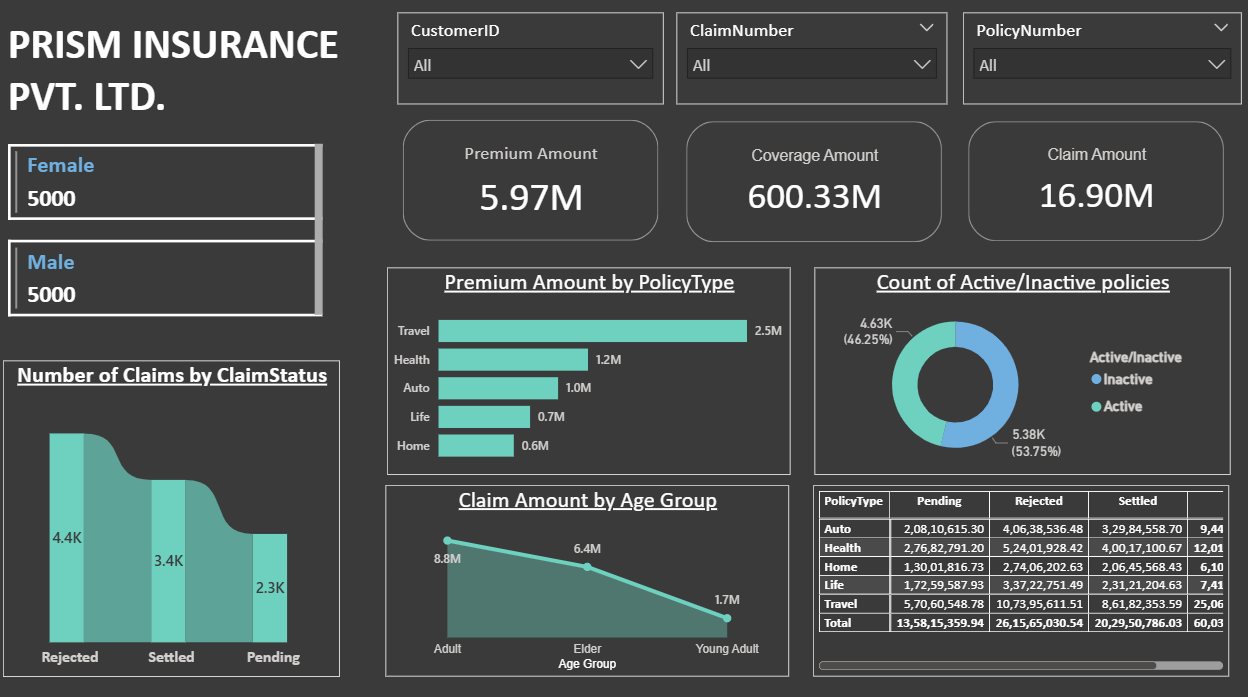

What the dashboard file says about the page in this screenshot:
{"tool":"powerbi","page":{"name":"Page 1","canvas":[1280,720],"ordinal":0},"visuals":[{"type":"slicer","fields":{"Values":["InsuranceData.PolicyNumber"]},"box":[981,22.4,281.2,92.7],"z":0},{"type":"slicer","fields":{"Values":["InsuranceData.ClaimNumber"]},"box":[691.8,22.4,273.2,92.7],"z":1000},{"type":"slicer","fields":{"Values":["InsuranceData.CustomerID"]},"box":[410.6,22.4,268.4,92.7],"z":2000},{"type":"textbox","box":[12.8,22.4,385,148.6],"z":3000},{"type":"cardVisual","fields":{"Data":["Sum(InsuranceData.CoverageAmount)"]},"box":[696.6,127.8,268.4,132.6],"z":4000},{"type":"cardVisual","fields":{"Data":["Sum(InsuranceData.PremiumAmount)"]},"box":[410.6,126.2,268.4,132.6],"z":5000},{"type":"cardVisual","fields":{"Data":["Sum(InsuranceData.ClaimAmount)"]},"box":[981,127.8,268.4,131],"z":6000},{"type":"multiRowCard","fields":{"Values":["InsuranceData.Gender","CountNonNull(InsuranceData.Gender)"]},"box":[12.8,150.2,327.5,194.9],"z":7000},{"type":"ribbonChart","title":"Number of Claims by ClaimStatus","fields":{"Category":["InsuranceData.ClaimStatus"],"Y":["CountNonNull(InsuranceData.ClaimStatus)"]},"box":[12.8,373.9,340.3,319.5],"z":8000},{"type":"barChart","fields":{"Y":["Sum(InsuranceData.PremiumAmount)"],"Category":["InsuranceData.PolicyType"]},"box":[399.4,279.6,407.4,209.3],"z":9000},{"type":"lineChart","title":" Claim Amount by Age Group","fields":{"Category":["InsuranceData.Age Group"],"Y":["Sum(InsuranceData.ClaimAmount)"]},"box":[397.8,500.1,407.4,193.3],"z":10000},{"type":"donutChart","title":"Count of Active/Inactive policies","fields":{"Category":["InsuranceData.Active/Inactive"],"Y":["CountNonNull(InsuranceData.Active/Inactive)"]},"box":[830.8,279.6,420.2,209.3],"z":11000},{"type":"pivotTable","fields":{"Values":["Sum(InsuranceData.CoverageAmount)"],"Rows":["InsuranceData.PolicyType"],"Columns":["InsuranceData.ClaimStatus"]},"box":[829.2,500.1,420.2,193.3],"z":12000}]}

Visuals, with their boxes in screenshot pixels (x1, y1, x2, y2), scaled from the page's 1280x720 canvas onto the 1248x697 screenshot:
slicer - InsuranceData.PolicyNumber: [956, 22, 1231, 111]
slicer - InsuranceData.ClaimNumber: [675, 22, 941, 111]
slicer - InsuranceData.CustomerID: [400, 22, 662, 111]
textbox: [12, 22, 388, 166]
cardVisual - Sum(InsuranceData.CoverageAmount): [679, 124, 941, 252]
cardVisual - Sum(InsuranceData.PremiumAmount): [400, 122, 662, 251]
cardVisual - Sum(InsuranceData.ClaimAmount): [956, 124, 1218, 251]
multiRowCard - InsuranceData.Gender x CountNonNull(InsuranceData.Gender): [12, 145, 332, 334]
"Number of Claims by ClaimStatus" ribbonChart: [12, 362, 344, 671]
barChart - Sum(InsuranceData.PremiumAmount) x InsuranceData.PolicyType: [389, 271, 787, 473]
" Claim Amount by Age Group" lineChart: [388, 484, 785, 671]
"Count of Active/Inactive policies" donutChart: [810, 271, 1220, 473]
pivotTable - Sum(InsuranceData.CoverageAmount) x InsuranceData.PolicyType: [808, 484, 1218, 671]
